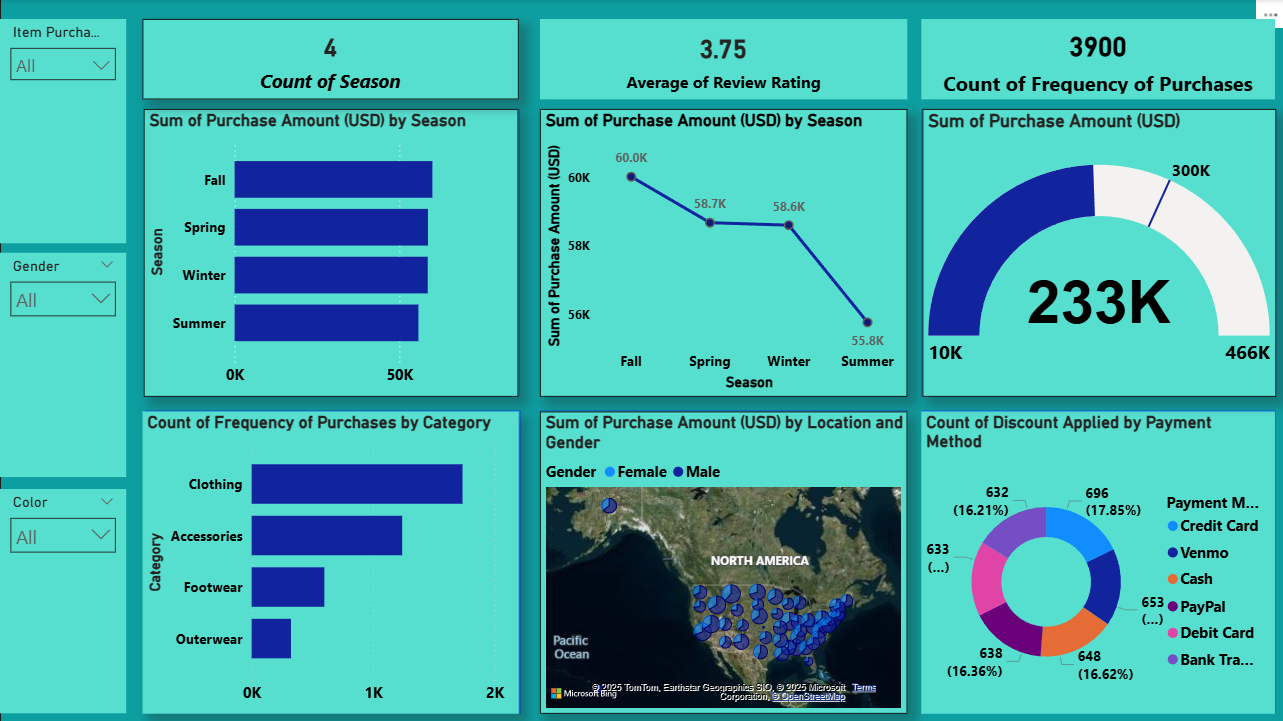

The page's visual inventory and layout, read from the dashboard file:
{"tool":"powerbi","page":{"name":"Page 1","canvas":[1280,720],"ordinal":0},"visuals":[{"type":"textbox","box":[10,0,1270.1,720.3],"z":0},{"type":"shape","box":[0,0,1280.3,720.1],"z":1000},{"type":"shape","box":[143.1,109.5,374.4,286.1],"z":2000},{"type":"shape","box":[144.3,409.3,374.4,302.3],"z":3000},{"type":"shape","box":[537.4,109.5,365.7,286.1],"z":4000},{"type":"shape","box":[537.4,409.3,365.7,302.3],"z":5000},{"type":"shape","box":[916.8,109.5,353.3,286.1],"z":6000},{"type":"barChart","fields":{"Category":["shopping_trends.Season"],"Y":["Sum(shopping_trends.Purchase Amount (USD))"]},"box":[143.1,109.5,373.2,286.1],"z":7000},{"type":"clusteredBarChart","fields":{"Category":["shopping_trends.Category"],"Y":["CountNonNull(shopping_trends.Frequency of Purchases)"]},"box":[141.8,410.5,374.4,301],"z":8000},{"type":"shape","box":[916.6,408.9,352.7,301.9],"z":9000},{"type":"shape","box":[141.8,19.9,374.4,79.6],"z":10000},{"type":"shape","box":[537.4,19.9,365.7,79.6],"z":11000},{"type":"shape","box":[916.8,19.9,352,79.6],"z":12000},{"type":"lineChart","fields":{"Category":["shopping_trends.Season"],"Y":["Sum(shopping_trends.Purchase Amount (USD))"]},"box":[537.4,109.5,365.7,286.1],"z":13000},{"type":"map","fields":{"Category":["shopping_trends.Location"],"Size":["Sum(shopping_trends.Purchase Amount (USD))"],"Series":["shopping_trends.Gender"]},"box":[537.4,410.5,365.7,301],"z":14000},{"type":"donutChart","fields":{"Category":["shopping_trends.Payment Method"],"Y":["CountNonNull(shopping_trends.Discount Applied)"]},"box":[916.8,410.5,352,301],"z":15000},{"type":"gauge","fields":{"Y":["Sum(shopping_trends.Purchase Amount (USD))"]},"box":[918,109.5,352,286.1],"z":16000},{"type":"card","fields":{"Values":["Count(shopping_trends.Season)"]},"box":[141.8,19.9,374.4,79.6],"z":17000},{"type":"card","title":"Average Review Rating","fields":{"Values":["Avg(shopping_trends.Review Rating)"]},"box":[537.4,19.9,365.7,79.6],"z":18000},{"type":"card","fields":{"Values":["CountNonNull(shopping_trends.Frequency of Purchases)"]},"box":[916.8,19.9,352,79.6],"z":19000},{"type":"slicer","fields":{"Values":["shopping_trends.Item Purchased"]},"box":[0,19.8,125.5,223.3],"z":20000},{"type":"slicer","fields":{"Values":["shopping_trends.Gender"]},"box":[0,252.4,125.5,223.3],"z":21000},{"type":"slicer","fields":{"Values":["shopping_trends.Color"]},"box":[0,487.5,125.5,223.3],"z":22000}]}

Visuals, with their boxes in screenshot pixels (x1, y1, x2, y2), scaled from the page's 1280x720 canvas onto the 1283x721 screenshot:
textbox: BBox(10, 0, 1282, 720)
shape: BBox(0, 0, 1282, 720)
shape: BBox(143, 110, 519, 396)
shape: BBox(145, 410, 520, 713)
shape: BBox(539, 110, 905, 396)
shape: BBox(539, 410, 905, 713)
shape: BBox(919, 110, 1273, 396)
barChart - shopping_trends.Season x Sum(shopping_trends.Purchase Amount (USD)): BBox(143, 110, 518, 396)
clusteredBarChart - shopping_trends.Category x CountNonNull(shopping_trends.Frequency of Purchases): BBox(142, 411, 517, 712)
shape: BBox(919, 409, 1272, 712)
shape: BBox(142, 20, 517, 100)
shape: BBox(539, 20, 905, 100)
shape: BBox(919, 20, 1272, 100)
lineChart - shopping_trends.Season x Sum(shopping_trends.Purchase Amount (USD)): BBox(539, 110, 905, 396)
map - shopping_trends.Location x Sum(shopping_trends.Purchase Amount (USD)): BBox(539, 411, 905, 712)
donutChart - shopping_trends.Payment Method x CountNonNull(shopping_trends.Discount Applied): BBox(919, 411, 1272, 712)
gauge - Sum(shopping_trends.Purchase Amount (USD)): BBox(920, 110, 1273, 396)
card - Count(shopping_trends.Season): BBox(142, 20, 517, 100)
"Average Review Rating" card: BBox(539, 20, 905, 100)
card - CountNonNull(shopping_trends.Frequency of Purchases): BBox(919, 20, 1272, 100)
slicer - shopping_trends.Item Purchased: BBox(0, 20, 126, 243)
slicer - shopping_trends.Gender: BBox(0, 253, 126, 476)
slicer - shopping_trends.Color: BBox(0, 488, 126, 712)
